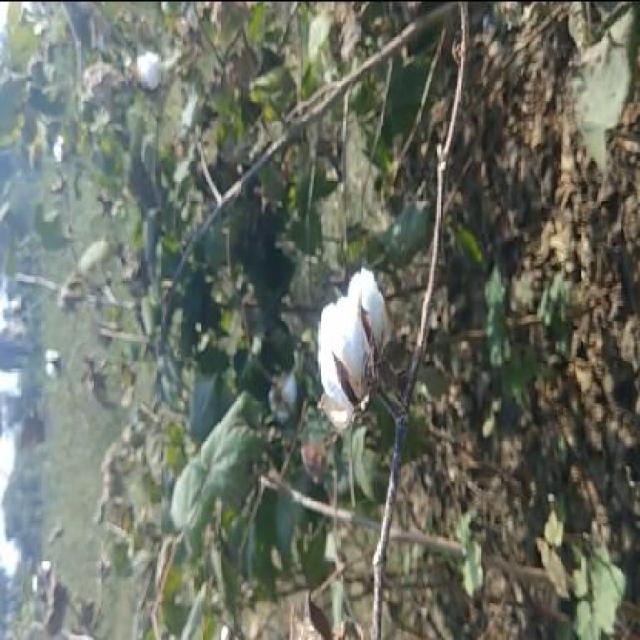cotton_ready: (293, 260, 438, 468)
